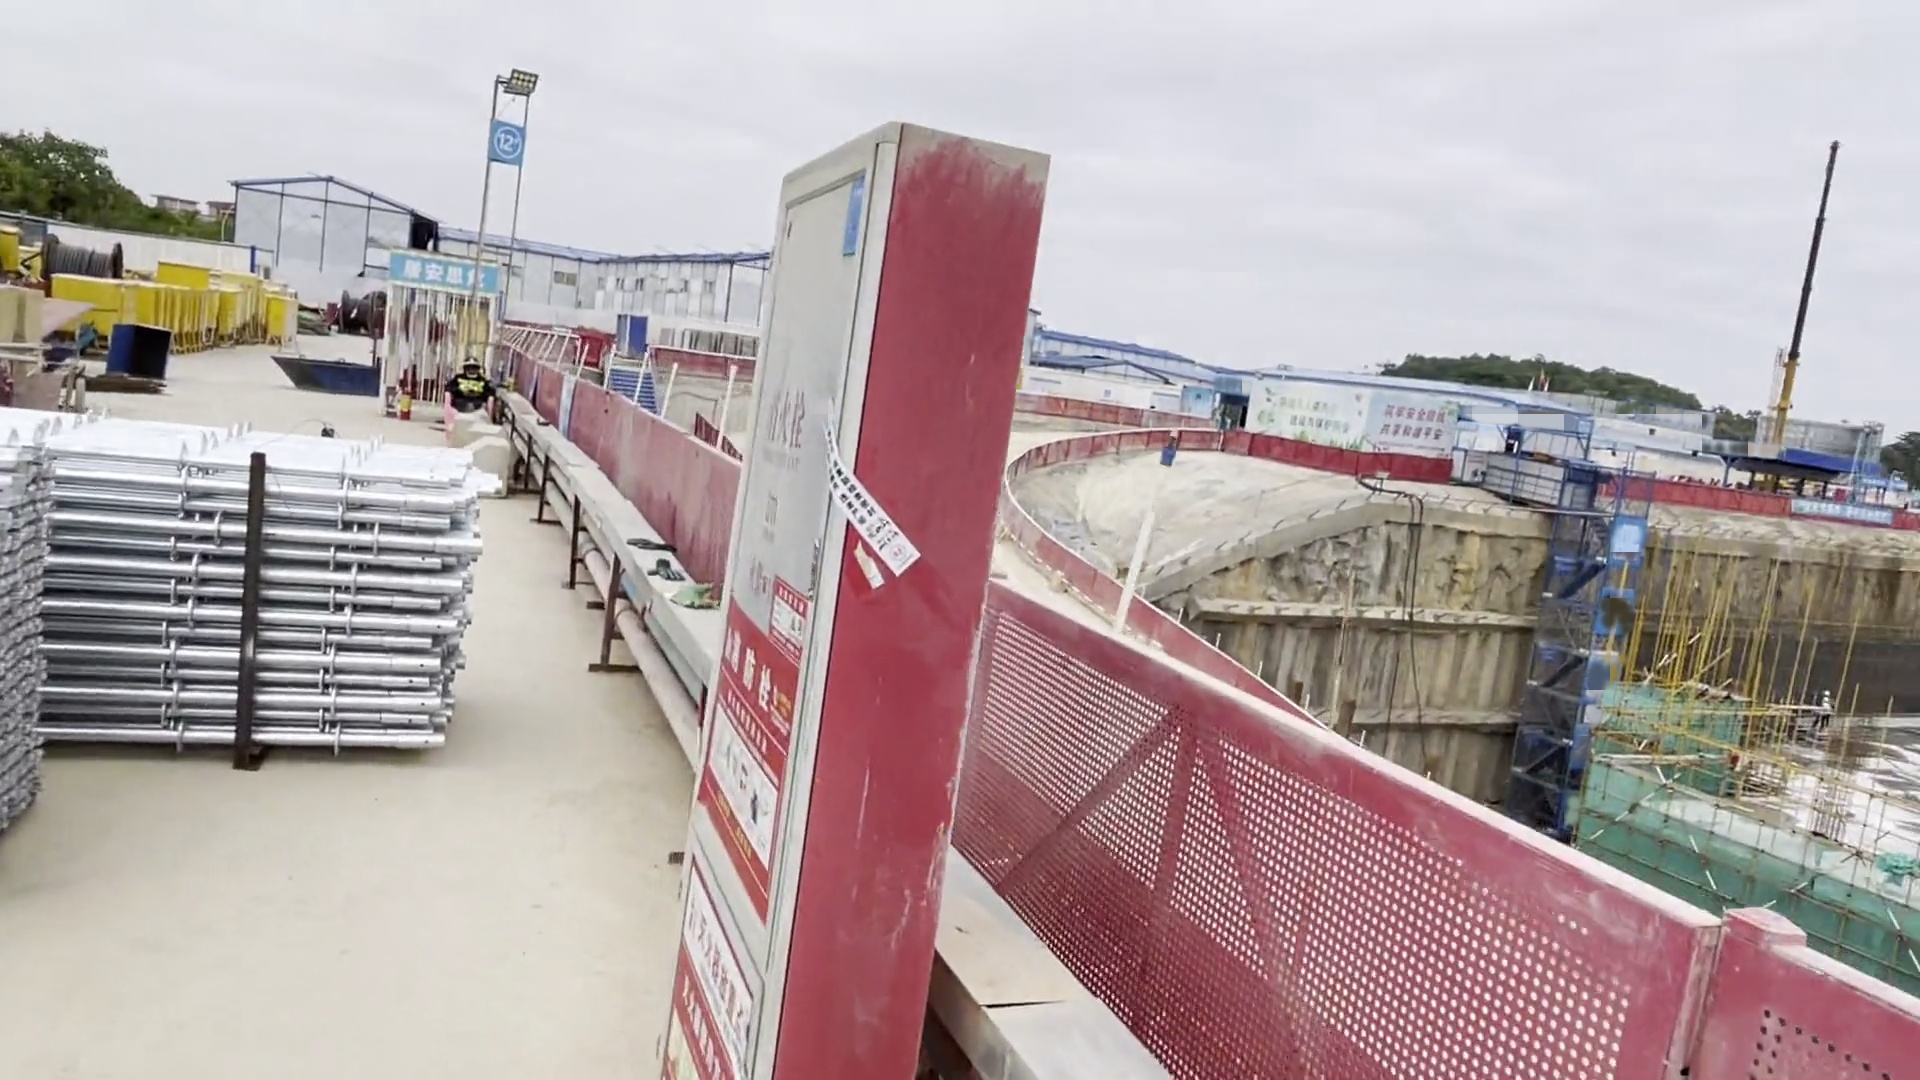ebox: (55, 273, 120, 342), (266, 295, 305, 353), (127, 276, 161, 334), (157, 255, 208, 287)
fence: (986, 622, 1691, 1080), (520, 360, 717, 576)
scaffold: (49, 434, 508, 807), (1, 419, 65, 837)
